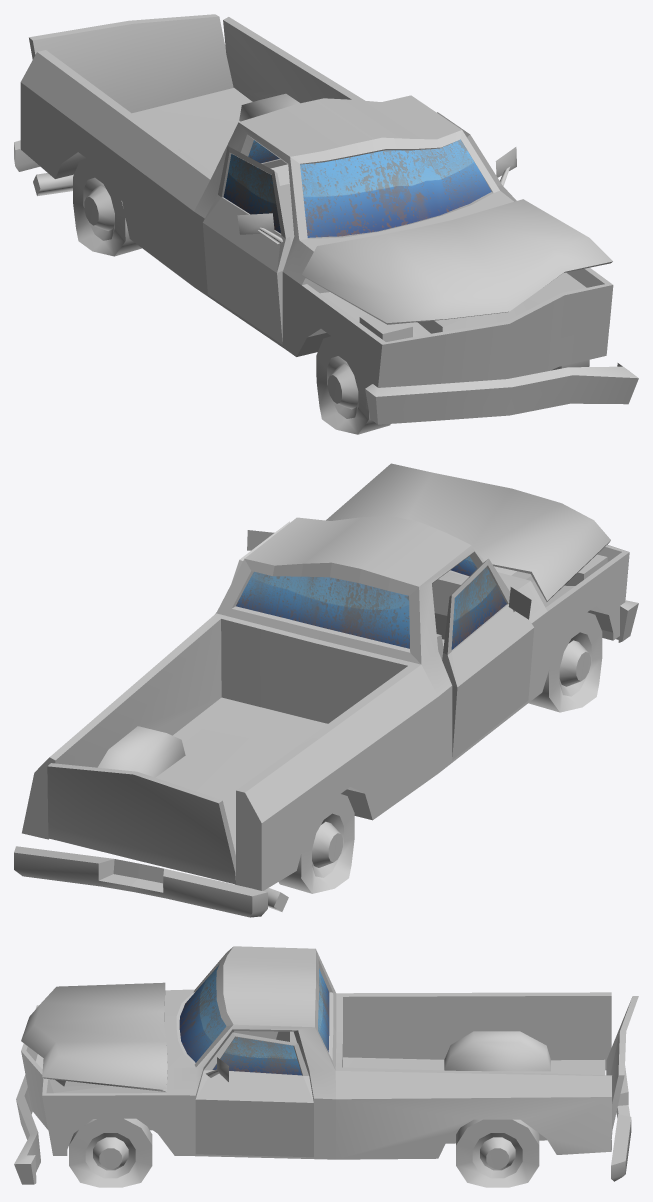
Rendered from Veh_PickupTruck_B.FBX.
3 renders of one model, top to bottom at view 1: azimuth 30°, elevation 25°; view 2: azimuth 150°, elevation 25°; view 3: azimuth 270°, elevation 25°, orthographic. The views are drawn at different scales.
Visible parts, largest first — view 1: Veh_PickupTruck_B, hood, tailgate, glass_windshieldFront, door_frontR, wheel_backR, wheel_frontR, glass_frontR, light_frontR, light_frontL, door_frontL, seats; view 2: Veh_PickupTruck_B, hood, tailgate, door_frontR, glass_windshieldRear, wheel_frontR, wheel_backR, glass_frontR, light_rearR, light_rearL; view 3: Veh_PickupTruck_B, hood, door_frontL, wheel_backL, wheel_frontL, glass_windshieldFront, glass_frontL, tailgate, glass_windshieldRear.
Part boxes in pixels (box(x1,y1,x2,y2)): Veh_PickupTruck_B: box(14, 17, 638, 424); hood: box(302, 199, 612, 324); tailgate: box(29, 14, 233, 113); glass_windshieldFront: box(300, 139, 491, 237); door_frontR: box(202, 146, 290, 344); wheel_backR: box(73, 158, 141, 256); wheel_frontR: box(316, 336, 390, 434); glass_frontR: box(223, 154, 280, 233); light_frontR: box(378, 336, 433, 385); light_frontL: box(561, 285, 613, 337); door_frontL: box(437, 112, 516, 201); seats: box(270, 164, 294, 245); Veh_PickupTruck_B: box(14, 516, 638, 917); hood: box(326, 463, 610, 601); tailgate: box(47, 763, 235, 884); door_frontR: box(442, 558, 534, 759); glass_windshieldRear: box(236, 571, 409, 648); wheel_frontR: box(528, 612, 602, 712); wheel_backR: box(278, 794, 354, 893); glass_frontR: box(451, 567, 506, 649); light_rearR: box(236, 791, 261, 890); light_rearL: box(22, 761, 55, 839); Veh_PickupTruck_B: box(14, 946, 631, 1184); hood: box(21, 982, 167, 1091); door_frontL: box(195, 1032, 313, 1157); wheel_backL: box(456, 1119, 539, 1187); wheel_frontL: box(69, 1118, 152, 1187); glass_windshieldFront: box(179, 964, 226, 1062); glass_frontL: box(213, 1037, 301, 1075); tailgate: box(606, 996, 638, 1138); glass_windshieldRear: box(318, 968, 329, 1052).
Size of the model in its own units: 212 by 149 by 515.
